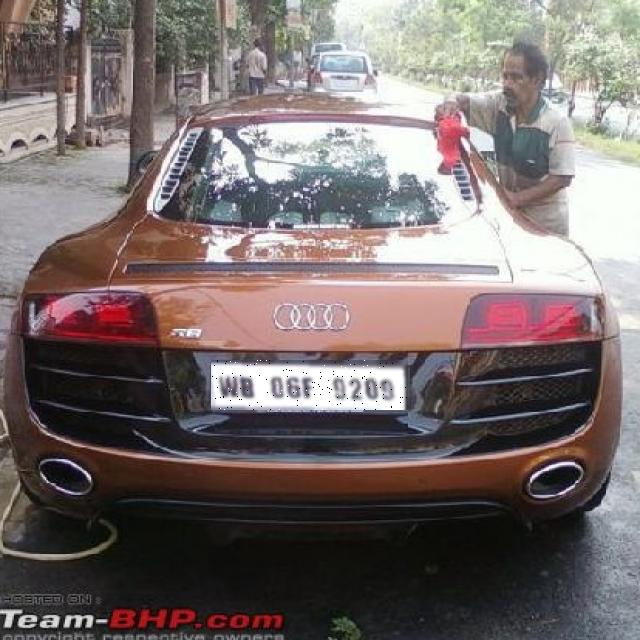Plate: (213, 361, 411, 411)
